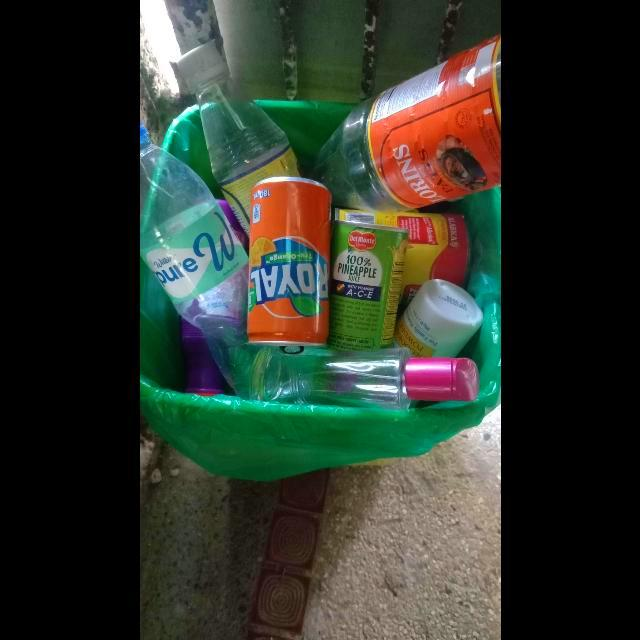aluminum: (246, 176, 331, 349), (333, 207, 468, 307), (328, 221, 408, 352)
plastic_bottle: (311, 34, 501, 213), (139, 122, 260, 400), (177, 39, 299, 238), (252, 346, 479, 411)
plastic_container: (393, 279, 483, 358)
